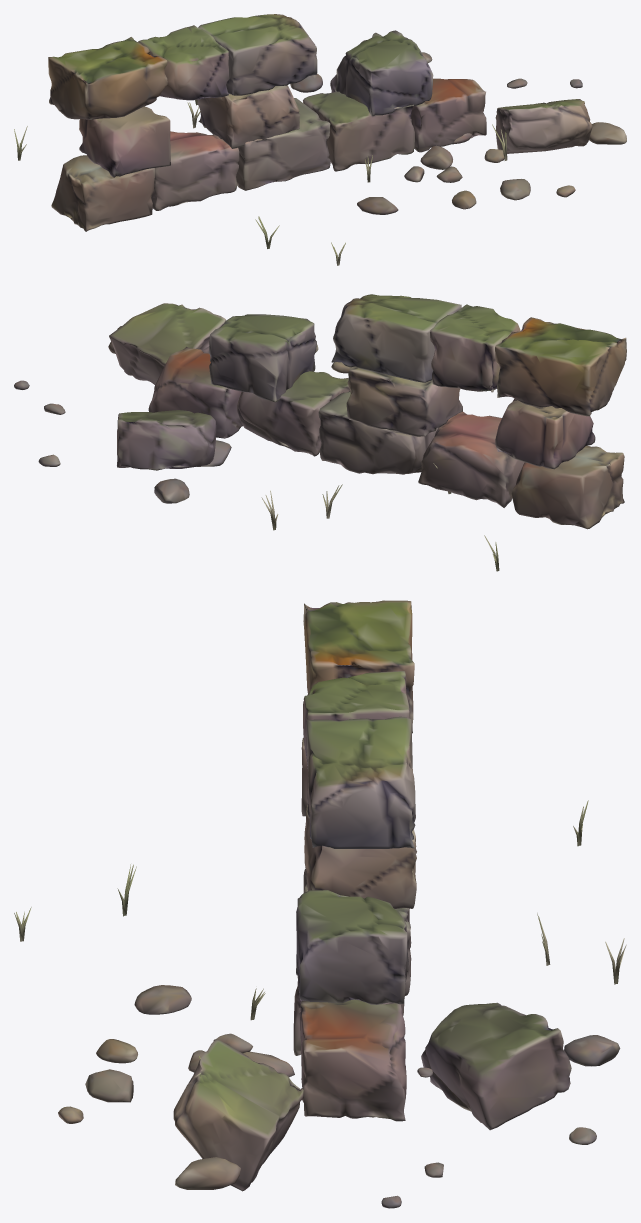
Rendered from blok_yikik_duvar.glb.
3 renders of one model, top to bottom at view 1: azimuth 30°, elevation 25°; view 2: azimuth 150°, elevation 25°; view 3: azimuth 270°, elevation 25°, orthographic. The views are drawn at different scales.
Visible parts, largest first — view 1: blok_yikik_duvar_LOD0; view 2: blok_yikik_duvar_LOD0; view 3: blok_yikik_duvar_LOD0.
Part boxes in pixels (left/top/right/bottom): blok_yikik_duvar_LOD0: left=14, top=14, right=626, bottom=265; blok_yikik_duvar_LOD0: left=14, top=294, right=626, bottom=571; blok_yikik_duvar_LOD0: left=14, top=600, right=626, bottom=1208.
Size of what is drawn, in the model's own units: 6.51 by 1.95 by 4.4.
